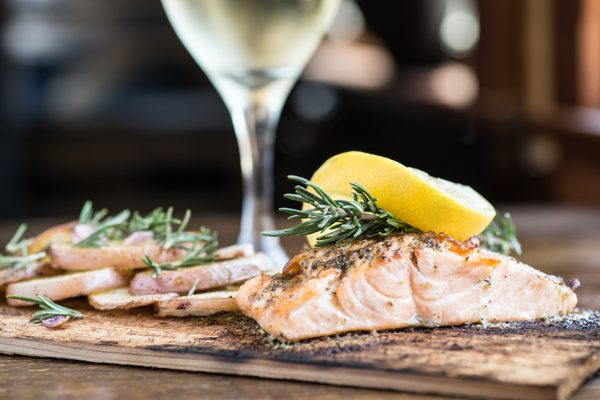soup: (231, 150, 600, 391)
